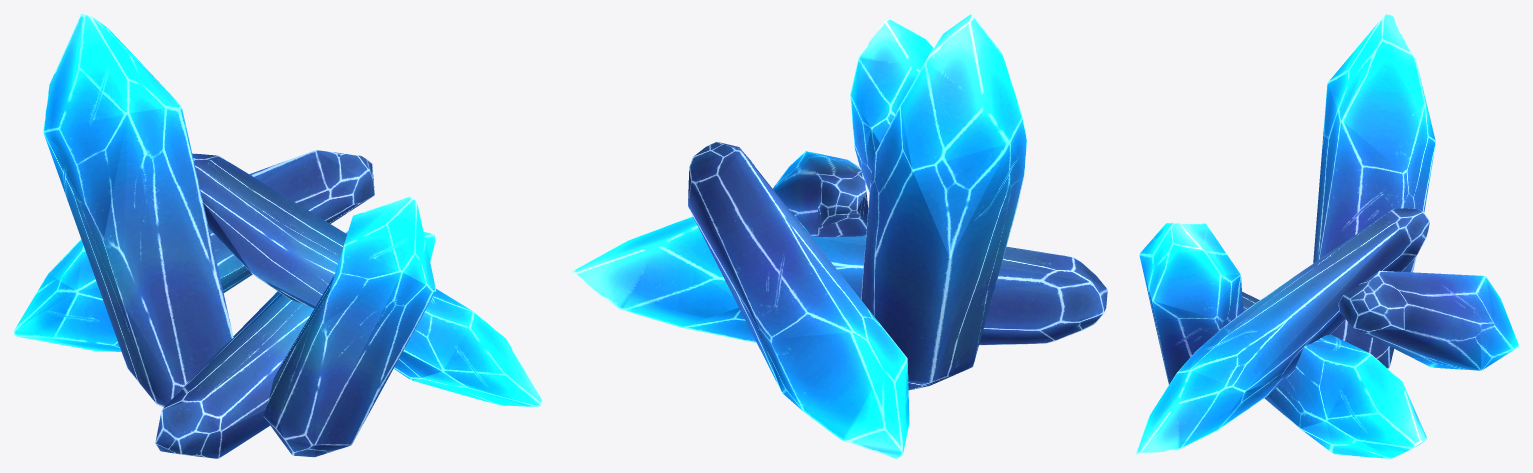
Rendered from crystal_small.glb.
The picture shows the model from 3 angles, left to right: view 1: azimuth 30°, elevation 25°; view 2: azimuth 150°, elevation 25°; view 3: azimuth 270°, elevation 25°; orthographic projection. The views are drawn at different scales.
Visible parts, largest first — view 1: crystal_small; view 2: crystal_small; view 3: crystal_small.
Boxes of the visible parts, bbox=[...] form: crystal_small: bbox=[14, 14, 543, 458]; crystal_small: bbox=[572, 14, 1107, 458]; crystal_small: bbox=[1136, 14, 1518, 458].
Bounding box in the file's own units: 43.81 × 41.29 × 41.64.
Materials: 1 (1 with a texture image).
